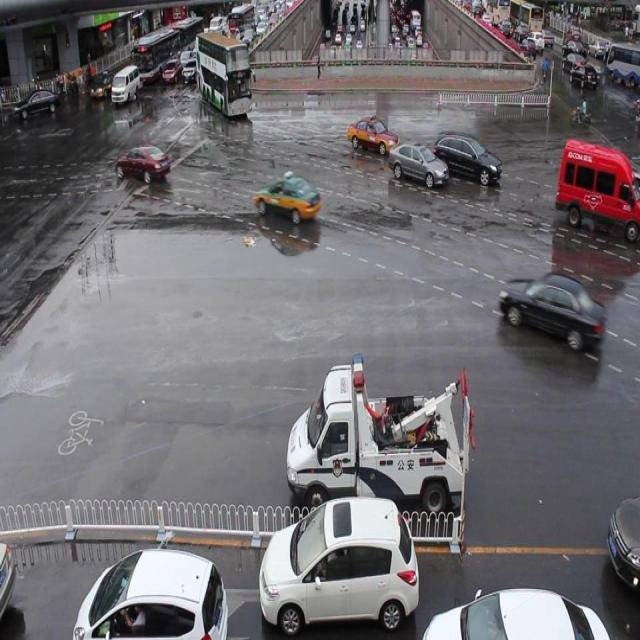BigCar: (185, 21, 264, 139), (133, 29, 184, 84)
car: (287, 334, 486, 552), (248, 503, 430, 628), (64, 533, 239, 640), (495, 248, 616, 392), (559, 123, 640, 268), (415, 589, 615, 640), (426, 105, 514, 210), (384, 128, 446, 210), (252, 165, 328, 231), (602, 476, 640, 587), (122, 136, 182, 203), (341, 96, 394, 162), (9, 82, 64, 133), (606, 34, 640, 110), (108, 57, 142, 115), (568, 64, 607, 102), (88, 58, 112, 107), (528, 26, 550, 62), (163, 52, 179, 88), (565, 36, 586, 61)
